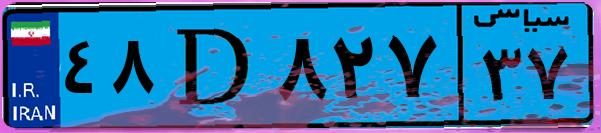2: (330, 28, 385, 110)
3: (475, 38, 525, 113)
4: (57, 26, 110, 100)
7: (385, 28, 445, 110), (525, 38, 570, 115)
8: (270, 28, 330, 110), (110, 28, 158, 98)
D: (158, 12, 270, 120)
